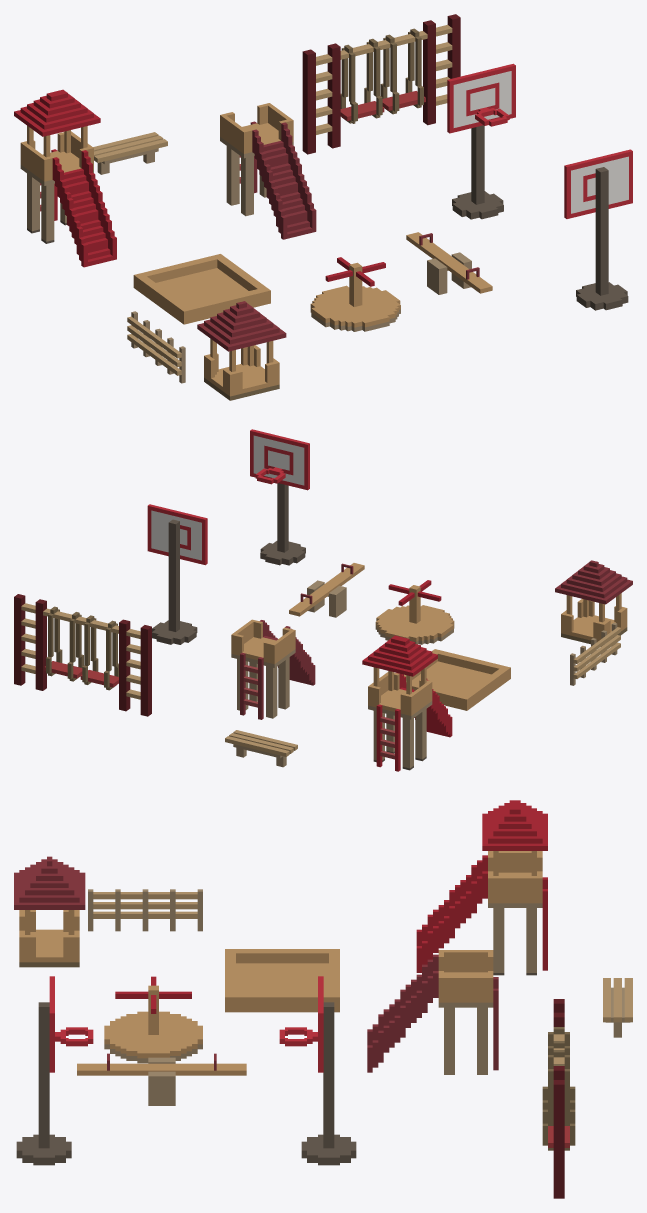
Rendered from play ground.obj.
3 views of the same model, one above another, from view 1: azimuth 30°, elevation 25°; view 2: azimuth 150°, elevation 25°; view 3: azimuth 270°, elevation 25° (orthographic). The views are drawn at different scales.
Size of the model in its own units: 23.5 by 6.4 by 22.6.
1 material, 1 textured.
